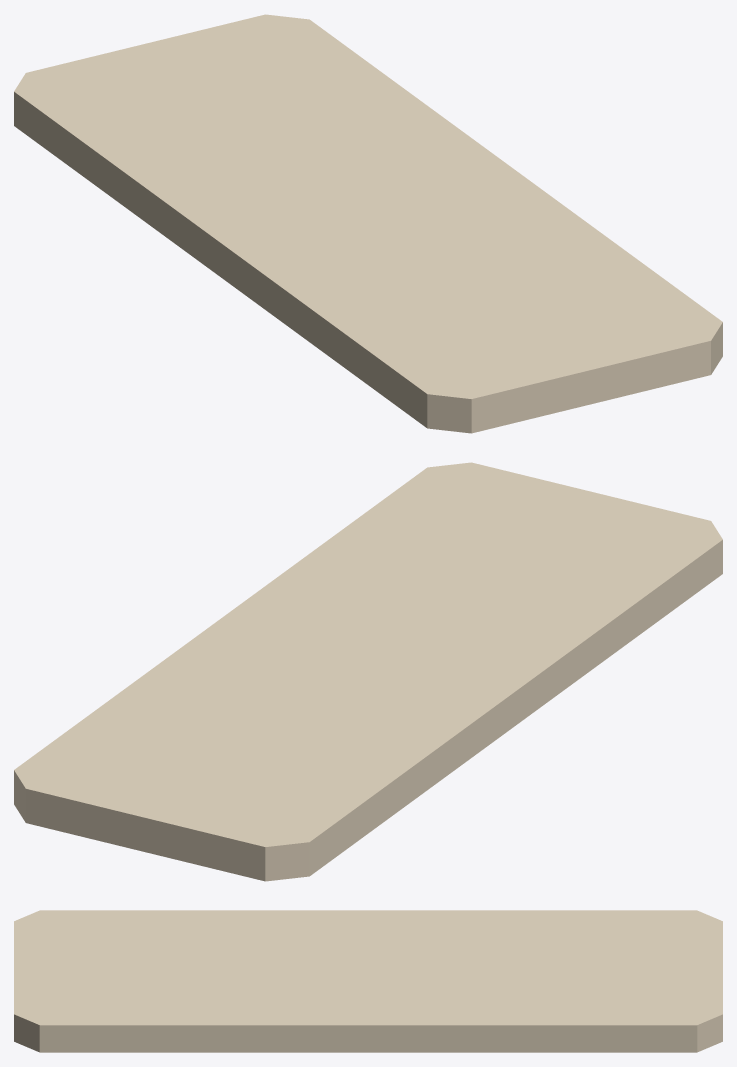
Rendered from Name_Apollo.fbx.
The picture shows the model from 3 angles, top to bottom: view 1: azimuth 30°, elevation 25°; view 2: azimuth 150°, elevation 25°; view 3: azimuth 270°, elevation 25°; orthographic projection. The views are drawn at different scales.
Parts seen in each view (by area): view 1: Cube.007; view 2: Cube.007; view 3: Cube.007.
Part boxes in pixels (left/top/right/bottom): Cube.007: left=14, top=14, right=722, bottom=433; Cube.007: left=14, top=462, right=722, bottom=881; Cube.007: left=14, top=910, right=722, bottom=1052.
Size of the model in its own units: 36.91 by 4.1 by 96.36.
